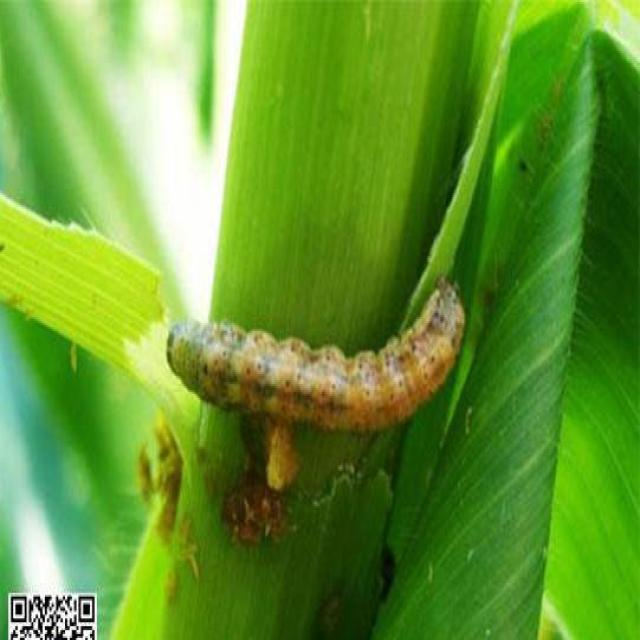pest: (167, 291, 462, 413)
